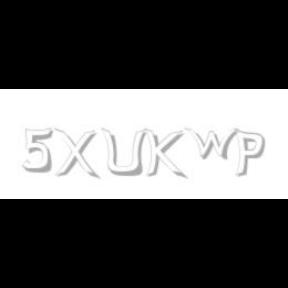5: (22, 128, 54, 174)
K: (144, 128, 184, 180)
P: (233, 128, 265, 178)
U: (100, 128, 145, 178)
X: (53, 128, 97, 180)
w: (184, 128, 244, 160)
